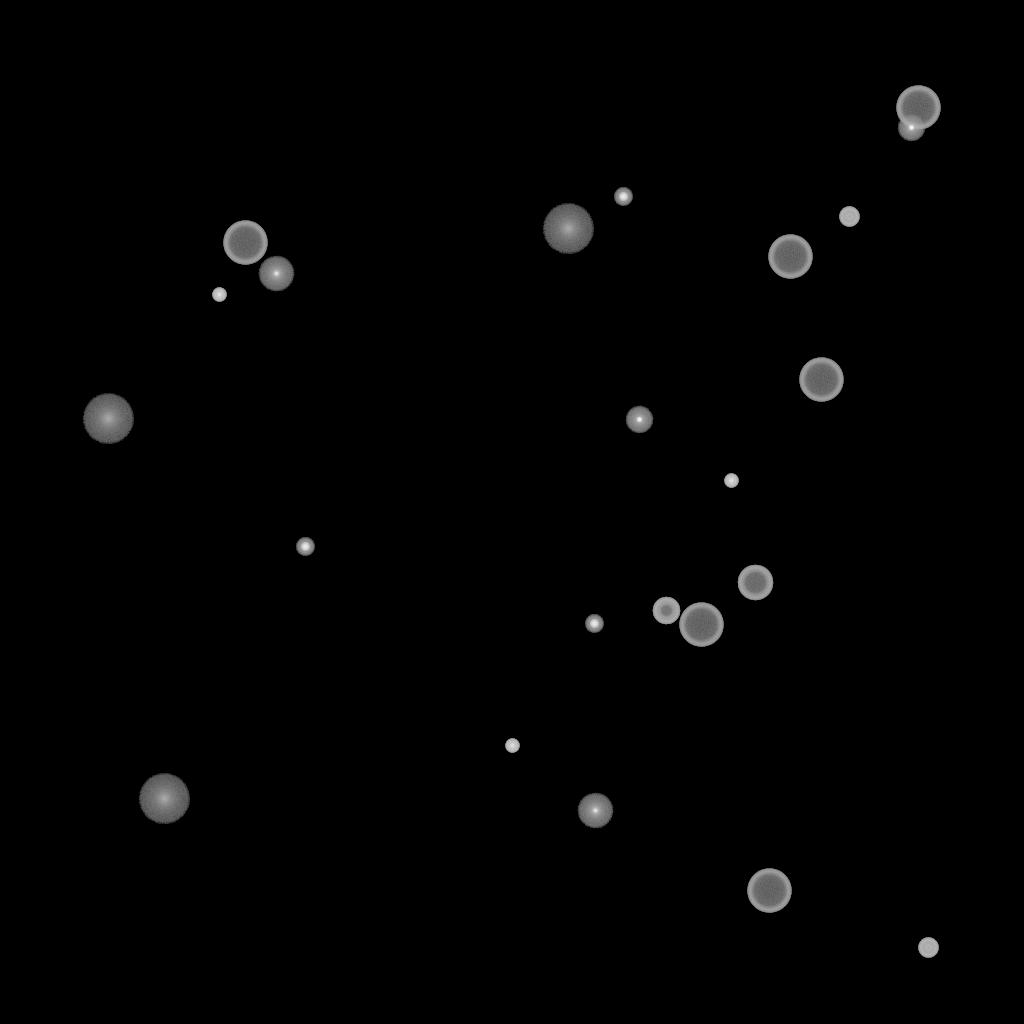depth:-10: (625, 406, 653, 434), (897, 114, 925, 142)
depth:-20: (585, 615, 603, 633), (614, 188, 632, 206), (296, 538, 314, 556)
depth:-30: (505, 739, 519, 753), (724, 474, 738, 488), (212, 288, 226, 302)
depth:-40: (839, 207, 859, 227), (918, 938, 938, 958)
depth:-50: (652, 597, 680, 625)
depth:-60: (737, 565, 773, 601)
depth:-70: (223, 221, 267, 265), (896, 86, 940, 130), (768, 235, 812, 279), (799, 358, 843, 402), (747, 869, 791, 913), (679, 603, 723, 647)
depth:0: (258, 256, 294, 292), (577, 793, 613, 829)
depth:20: (82, 394, 134, 444), (138, 774, 190, 824), (542, 204, 594, 254)
